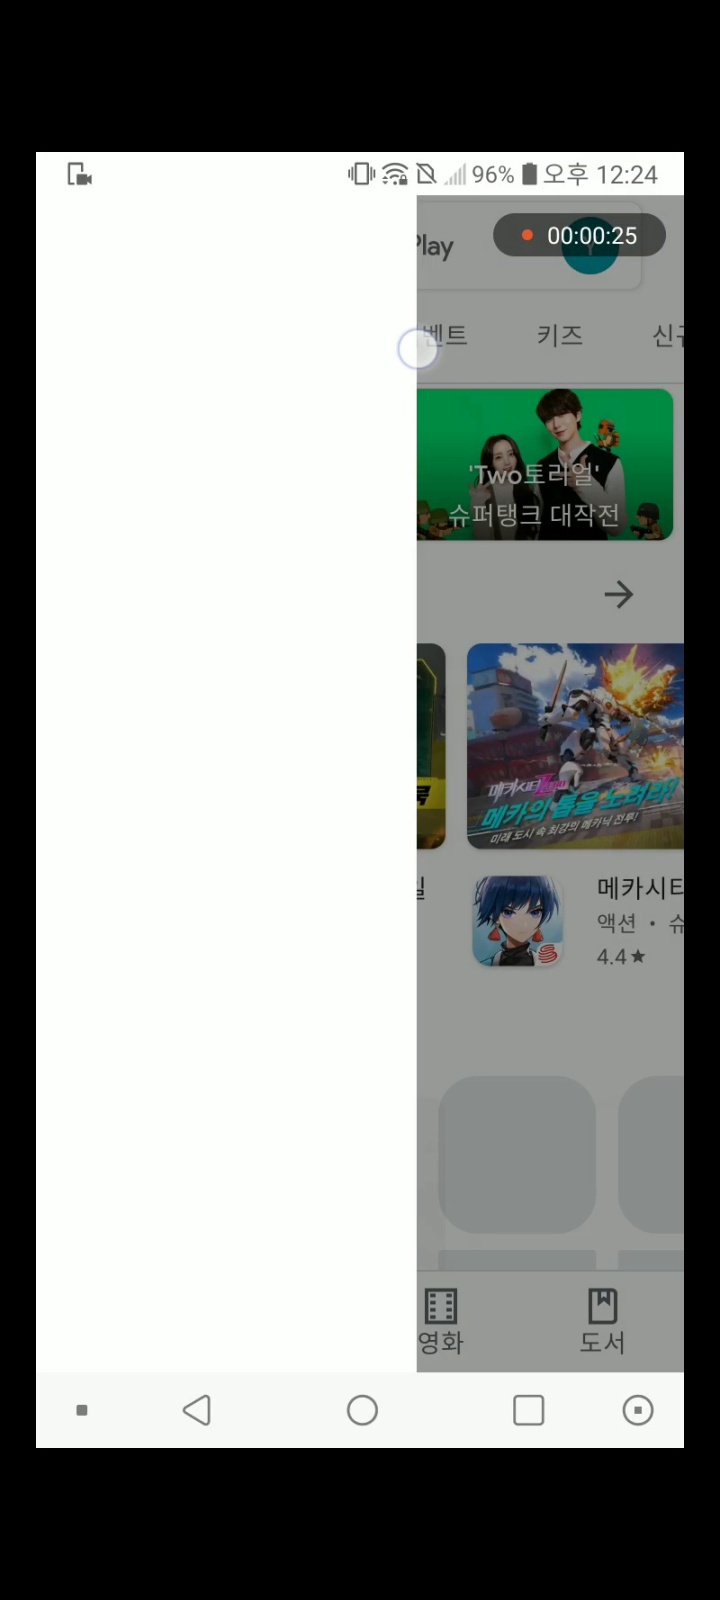Cursor: (396, 327, 441, 372)
